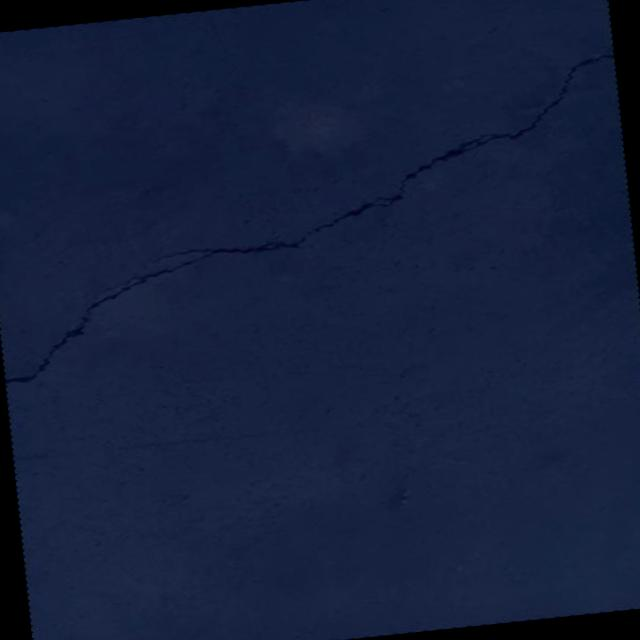crack: (0, 52, 640, 386), (564, 105, 625, 171), (177, 72, 202, 108), (161, 151, 180, 173), (211, 24, 224, 54), (200, 10, 213, 24)
